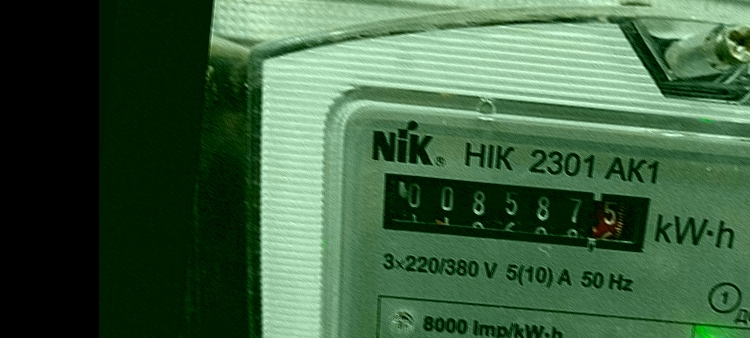0: (405, 179, 425, 209), (439, 183, 458, 213)
5: (602, 198, 622, 229), (502, 189, 522, 218)
7: (566, 194, 586, 225)
8: (534, 192, 554, 223), (470, 187, 489, 217)
screen: (362, 155, 670, 268)
